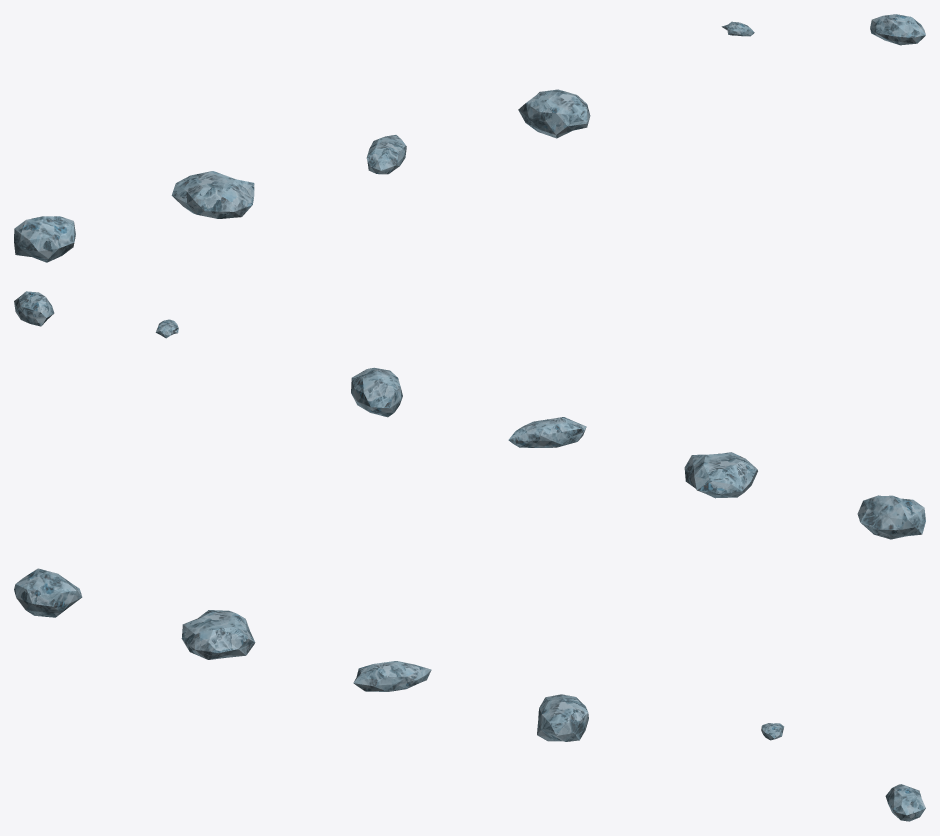
File: ice_chunks.glb
The picture shows the model from 3 angles, top to bottom: view 1: azimuth 30°, elevation 25°; view 2: azimuth 150°, elevation 25°; view 3: azimuth 330°, elevation 25°; orthographic projection.
Visible parts, largest first — view 1: IceChunk_S02, IceChunk_S04, IceChunk_S01, IceChunk_S06, IceChunk_S03; view 2: IceChunk_S02, IceChunk_S01, IceChunk_S04, IceChunk_S03, IceChunk_S06; view 3: IceChunk_S02, IceChunk_S01, IceChunk_S04, IceChunk_S03, IceChunk_S06.
Boxes of the visible parts, x1=… form: IceChunk_S02: x1=171, y1=171, x2=254, y2=218; IceChunk_S04: x1=518, y1=89, x2=590, y2=138; IceChunk_S01: x1=14, y1=216, x2=75, y2=262; IceChunk_S06: x1=870, y1=14, x2=925, y2=45; IceChunk_S03: x1=366, y1=135, x2=406, y2=174; IceChunk_S02: x1=684, y1=452, x2=757, y2=498; IceChunk_S01: x1=857, y1=495, x2=925, y2=539; IceChunk_S04: x1=351, y1=367, x2=402, y2=417; IceChunk_S03: x1=508, y1=417, x2=586, y2=447; IceChunk_S06: x1=14, y1=291, x2=54, y2=326; IceChunk_S02: x1=181, y1=610, x2=255, y2=659; IceChunk_S01: x1=14, y1=568, x2=82, y2=617; IceChunk_S04: x1=537, y1=694, x2=588, y2=741; IceChunk_S03: x1=353, y1=661, x2=431, y2=691; IceChunk_S06: x1=885, y1=784, x2=925, y2=821.
Bounding box in the file's own units: 0.7417 × 0.0389 × 0.061.
1 material, 1 textured.
